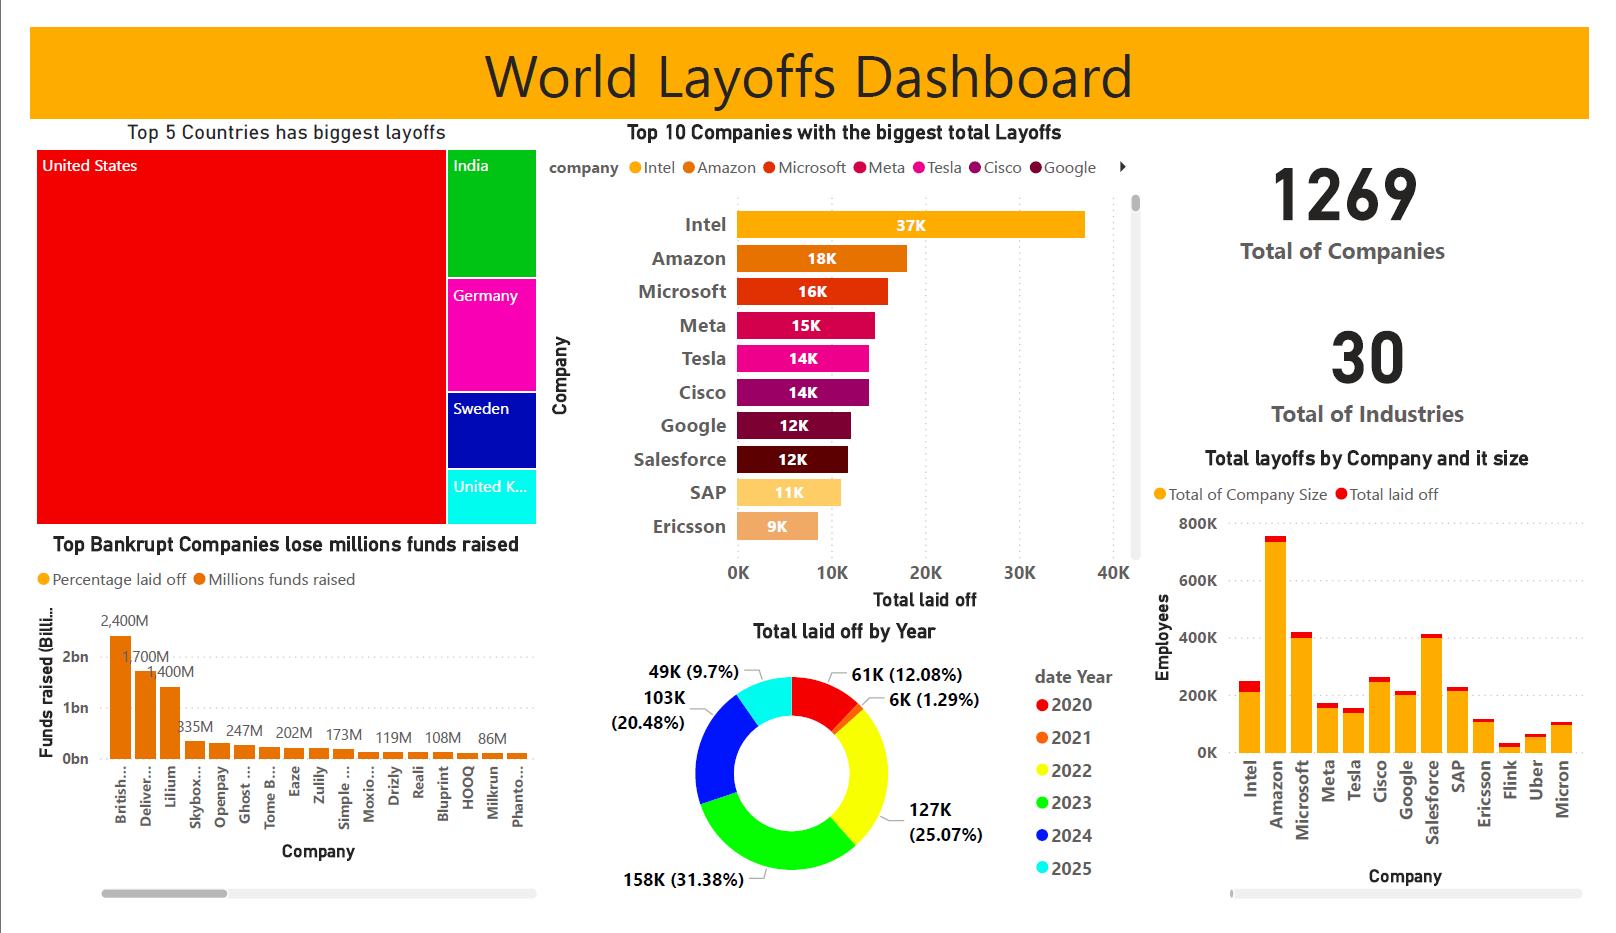

The page's visual inventory and layout, read from the dashboard file:
{"tool":"powerbi","page":{"name":"Page 1","canvas":[1280,720],"ordinal":0},"visuals":[{"type":"textbox","box":[0,0,1280,75.5],"z":0},{"type":"card","fields":{"Values":["Count(world_layoffs layoffs_staging.company)"]},"box":[876,75.8,404,132.1],"z":1000},{"type":"barChart","title":"Top 10 Companies with the biggest total Layoffs","fields":{"Category":["world_layoffs layoffs_staging.company"],"Y":["Sum(world_layoffs layoffs_staging.total_laid_off)"],"Series":["world_layoffs layoffs_staging.company"]},"box":[421.5,75.8,495.3,409.8],"z":2000},{"type":"columnChart","title":"Total layoffs by Company and it size","fields":{"Category":["world_layoffs layoffs_staging.company","world_layoffs layoffs_staging.date.Variation.Date Hierarchy.Year"],"Y":["Sum(world_layoffs layoffs_staging.companies_size)","Sum(world_layoffs layoffs_staging.total_laid_off)"]},"box":[916.8,343.8,363.2,376.8],"z":3000},{"type":"donutChart","fields":{"Category":["world_layoffs layoffs_staging.date.Variation.Date Hierarchy.Year"],"Y":["Sum(world_layoffs layoffs_staging.total_laid_off)"]},"box":[421.5,485.6,495.3,235],"z":4000},{"type":"columnChart","title":"Top Bankrupt Companies lose millions funds raised","fields":{"Category":["world_layoffs layoffs_staging.company"],"Y":["Sum(world_layoffs layoffs_staging.percentage_laid_off)","Sum(world_layoffs layoffs_staging.millions_funds_raised)"]},"box":[0,413.7,421.5,306.9],"z":5000},{"type":"treemap","title":"Top 5 Countries has biggest layoffs","fields":{"Group":["world_layoffs layoffs_staging.country"],"Values":["Sum(world_layoffs layoffs_staging.total_laid_off)"]},"box":[0,75.8,421.5,338],"z":6000},{"type":"card","fields":{"Values":["Count(world_layoffs layoffs_staging.industry)"]},"box":[916.8,207.8,363.2,136],"z":7000}]}

Visuals, with their boxes in screenshot pixels (x1, y1, x2, y2), scaled from the page's 1280x720 canvas onto the 1616x933 screenshot:
textbox: (x1=0, y1=0, x2=1615, y2=98)
card - Count(world_layoffs layoffs_staging.company): (x1=1106, y1=98, x2=1615, y2=269)
"Top 10 Companies with the biggest total Layoffs" barChart: (x1=532, y1=98, x2=1157, y2=629)
"Total layoffs by Company and it size" columnChart: (x1=1157, y1=446, x2=1615, y2=932)
donutChart - world_layoffs layoffs_staging.date.Variation.Date Hierarchy.Year x Sum(world_layoffs layoffs_staging.total_laid_off): (x1=532, y1=629, x2=1157, y2=932)
"Top Bankrupt Companies lose millions funds raised" columnChart: (x1=0, y1=536, x2=532, y2=932)
"Top 5 Countries has biggest layoffs" treemap: (x1=0, y1=98, x2=532, y2=536)
card - Count(world_layoffs layoffs_staging.industry): (x1=1157, y1=269, x2=1615, y2=446)
